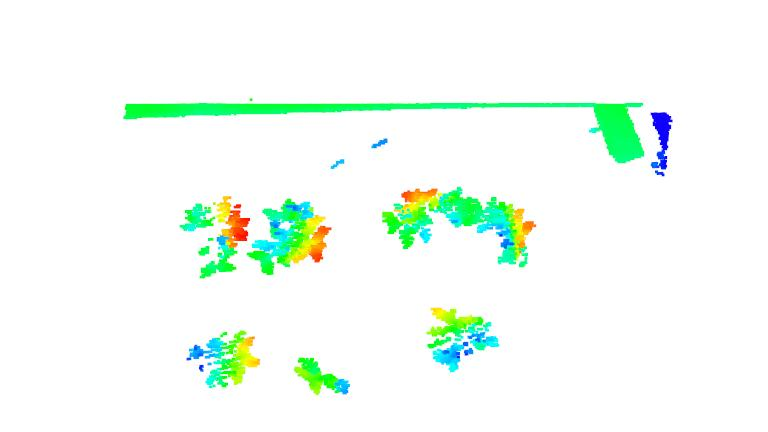chickpea: (248, 198, 335, 284), (442, 187, 536, 266), (182, 195, 251, 283), (422, 307, 505, 374), (182, 328, 267, 392), (383, 183, 441, 248), (291, 355, 357, 396)
